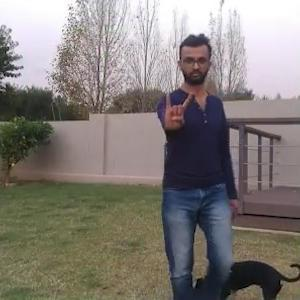takeoff-hand: (158, 83, 198, 134)
